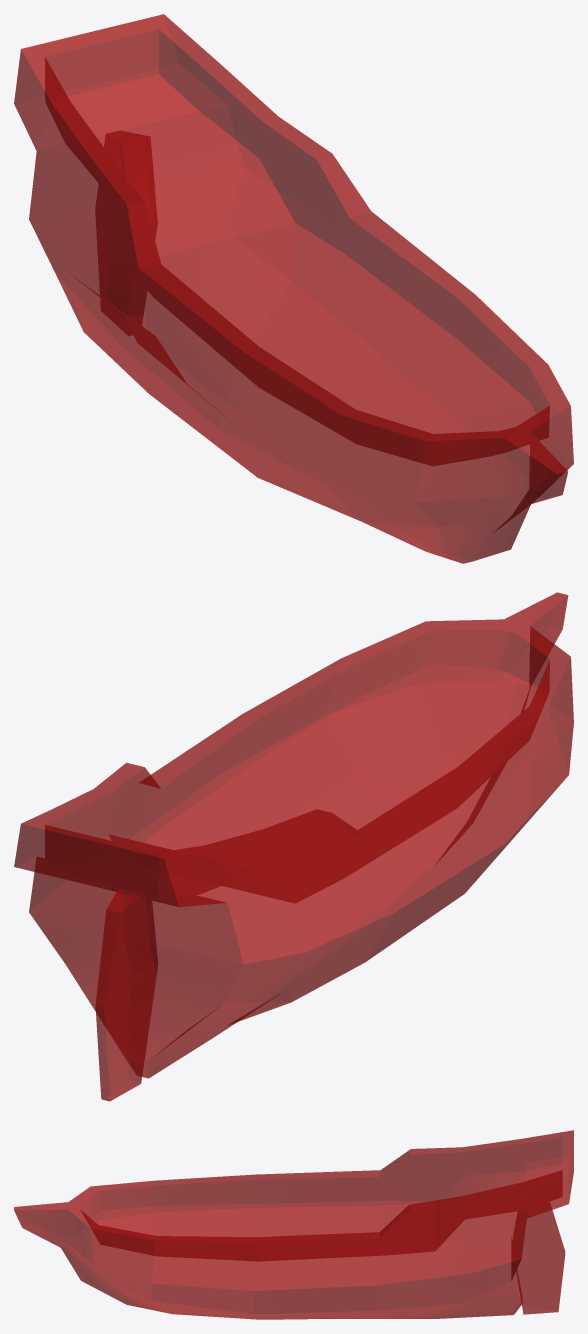
Rendered from SM_Veh_Boat_Medium_01_Hull_Collision.fbx.
3 renders of one model, top to bottom at view 1: azimuth 30°, elevation 25°; view 2: azimuth 150°, elevation 25°; view 3: azimuth 270°, elevation 25°, orthographic. The views are drawn at different scales.
Parts seen in each view (by area): view 1: SM_Veh_Boat_Medium_01_Hull_Collision; view 2: SM_Veh_Boat_Medium_01_Hull_Collision; view 3: SM_Veh_Boat_Medium_01_Hull_Collision.
Part boxes in pixels (x1=…): SM_Veh_Boat_Medium_01_Hull_Collision: x1=14, y1=14, x2=573, y2=563; SM_Veh_Boat_Medium_01_Hull_Collision: x1=14, y1=592, x2=573, y2=1101; SM_Veh_Boat_Medium_01_Hull_Collision: x1=14, y1=1130, x2=573, y2=1319.
Bounding box in the file's own units: 501 × 470 × 1429.
